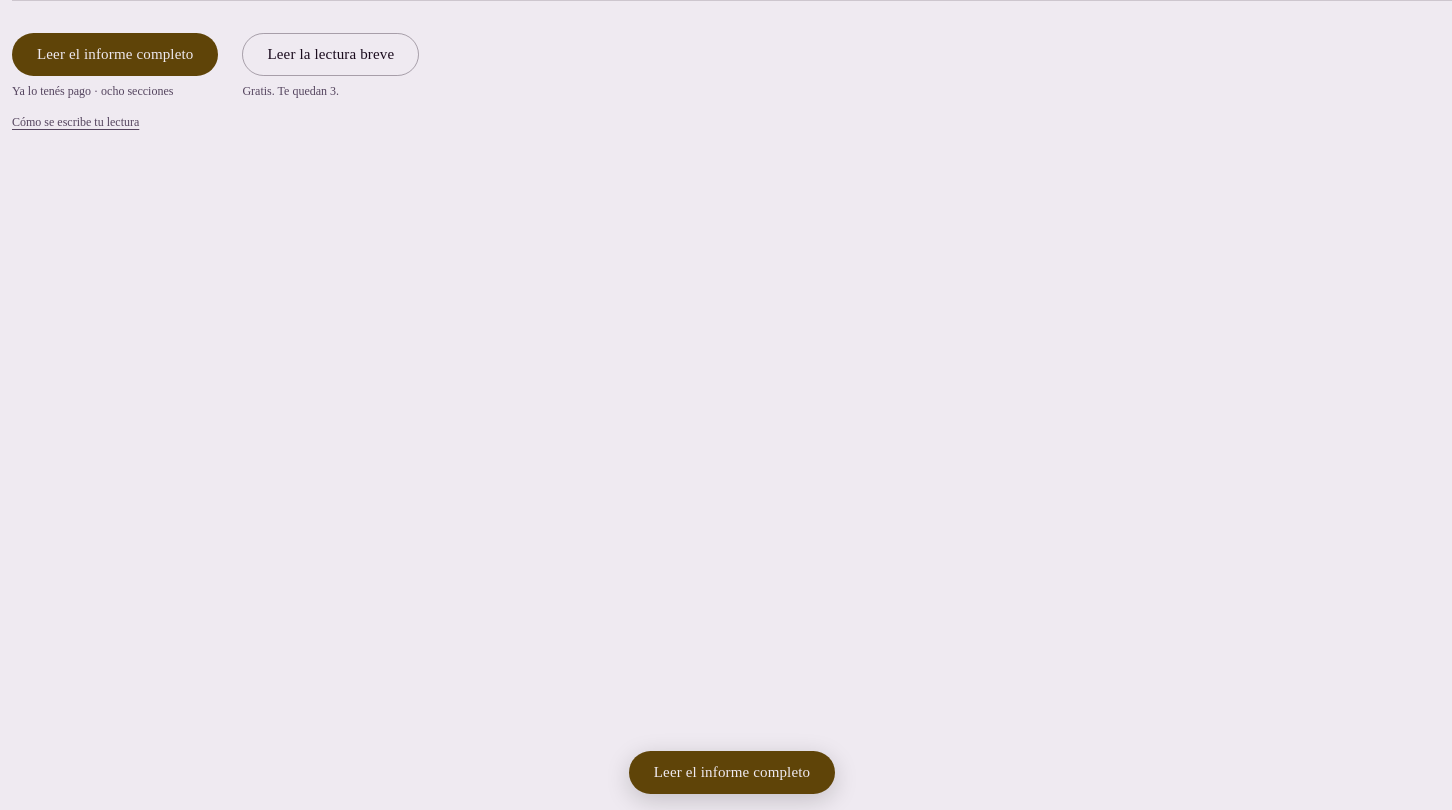
Scenario: ChartActions: barra fija › al volver de la espera no reaparece hasta que el observador vuelve a medir
Expected: the element with test id "accion-fija" is shown, [629,751,835,794]
// Con la barra puesta hay dos botones con el mismo nombre: el del bloque.
What coordinates should you click on to do the following:
click the 1st button "Leer el informe completo"
I would click on:
 (115, 54)
Its box is [12,33,218,76].
Wait 5000 ms
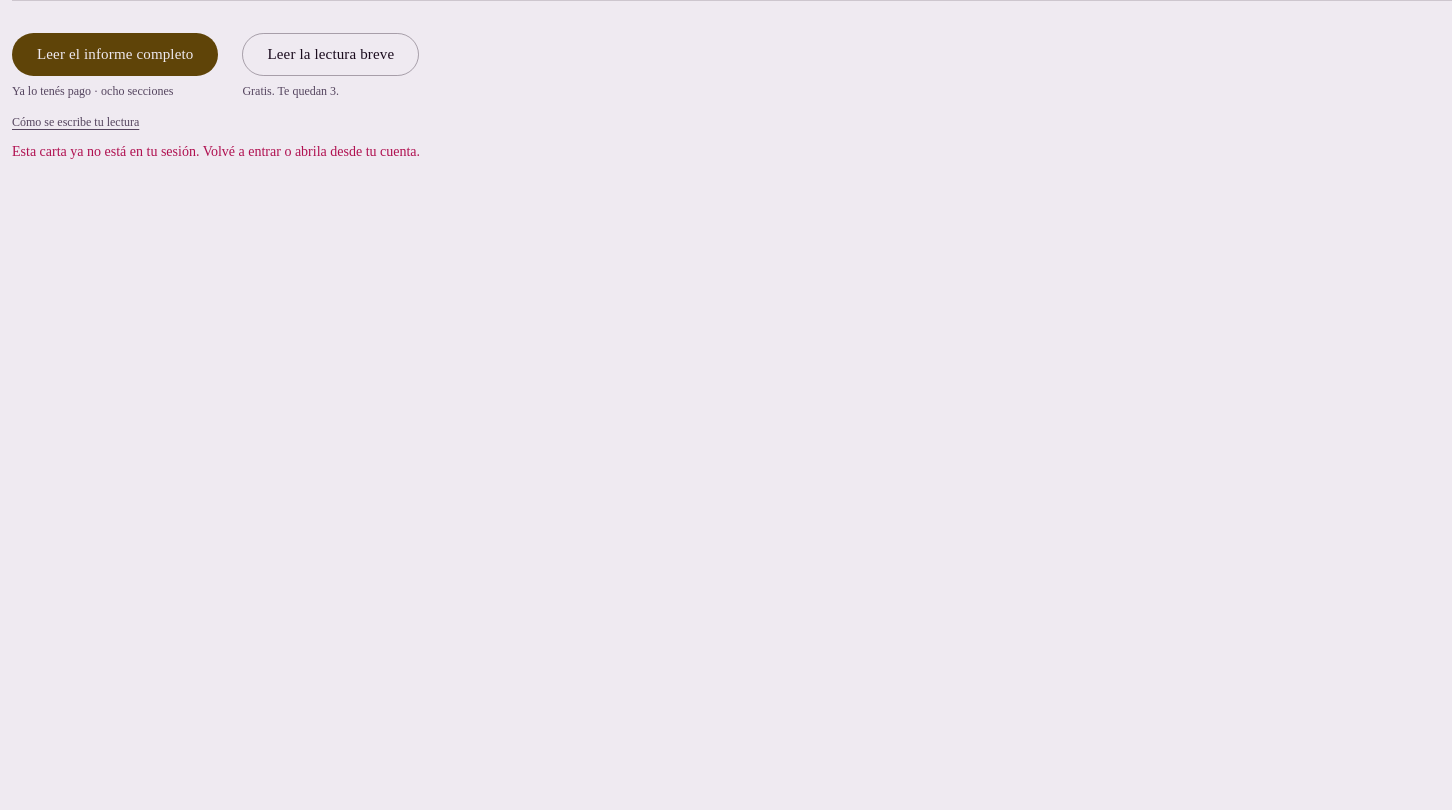
Result: the message "Esta carta ya no está en tu sesión. Volvé a entrar o abrila desde tu cuenta." is shown at [12,140,420,164]
Result: the element with test id "accion-fija" is gone
